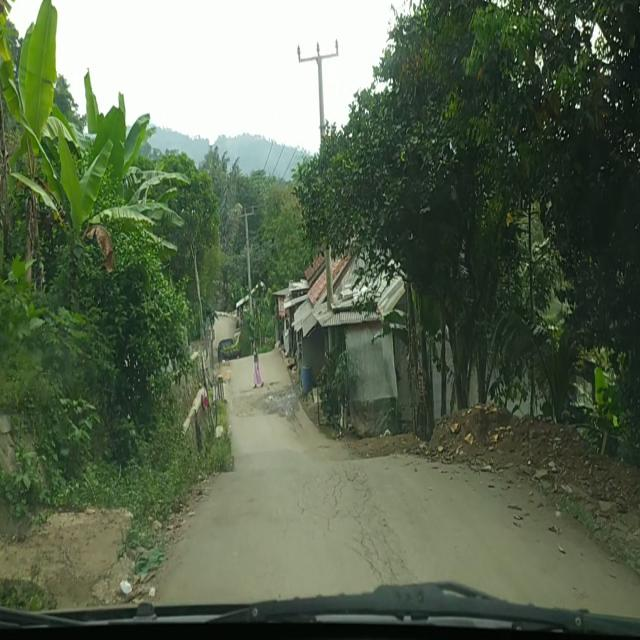Drain Hole: (315, 470, 407, 580)
